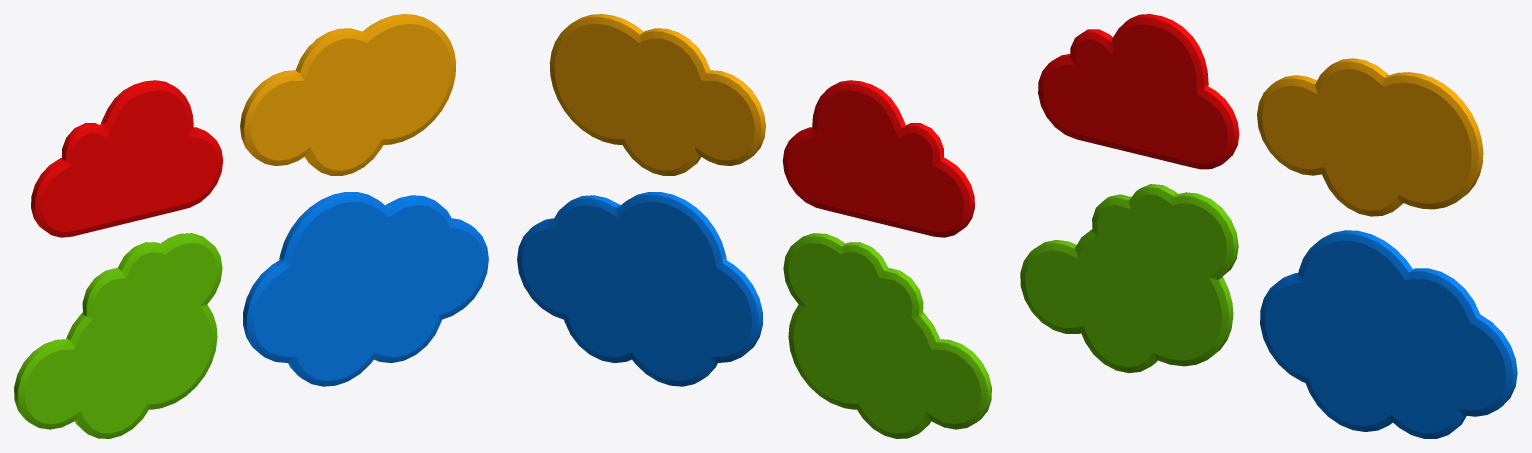
File: CloudCompOBJ.obj
The picture shows the model from 3 angles, left to right: view 1: azimuth 30°, elevation 25°; view 2: azimuth 150°, elevation 25°; view 3: azimuth 330°, elevation 25°; orthographic projection. The views are drawn at different scales.
Parts seen in each view (by area): view 1: Cloud03, Cloud01, Cloud04, Cloud02; view 2: Cloud03, Cloud01, Cloud04, Cloud02; view 3: Cloud03, Cloud01, Cloud04, Cloud02.
Boxes of the visible parts, bbox=[...] form: Cloud03: bbox=[243, 192, 488, 386]; Cloud01: bbox=[14, 233, 222, 438]; Cloud04: bbox=[240, 14, 456, 175]; Cloud02: bbox=[31, 80, 223, 237]; Cloud03: bbox=[517, 192, 762, 386]; Cloud01: bbox=[783, 233, 991, 438]; Cloud04: bbox=[549, 14, 765, 175]; Cloud02: bbox=[782, 80, 974, 237]; Cloud03: bbox=[1260, 230, 1517, 438]; Cloud01: bbox=[1020, 184, 1238, 372]; Cloud04: bbox=[1257, 58, 1483, 216]; Cloud02: bbox=[1038, 14, 1239, 169].
Size of the model in its own units: 7.93 by 5.67 by 0.18.
